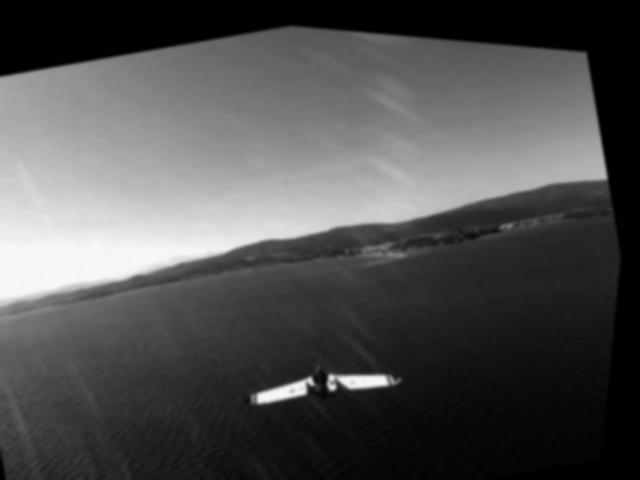hedef: (231, 319, 423, 441)
